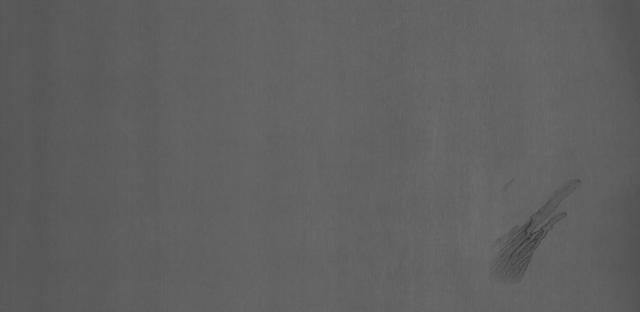water_spot: (486, 172, 590, 290)
